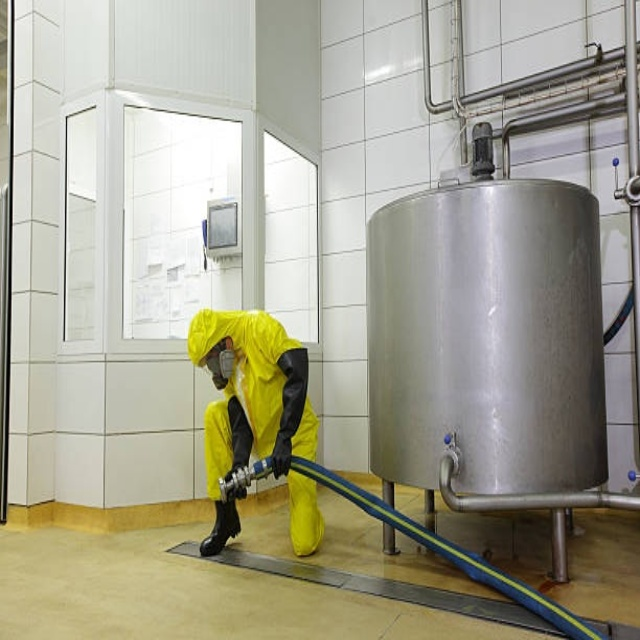Guantes: (270, 344, 313, 482), (223, 394, 250, 507)
Mascara: (204, 344, 238, 391)
